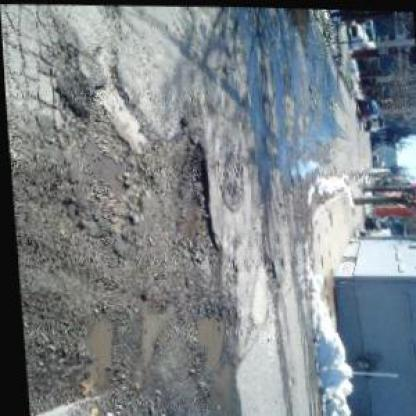pothole: (57, 100, 157, 231), (162, 130, 220, 255), (185, 296, 237, 408), (74, 309, 122, 394), (130, 291, 179, 366), (256, 252, 276, 308)
